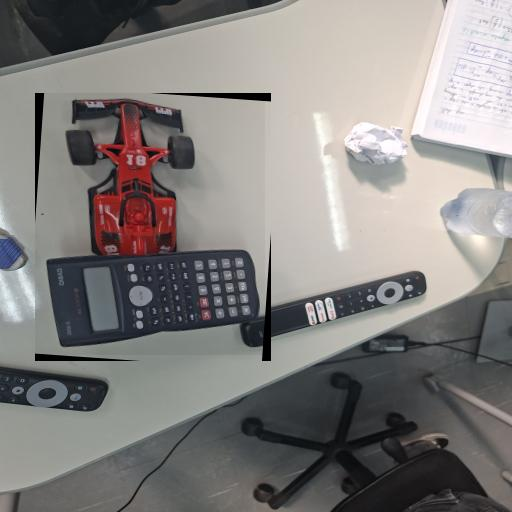carro: (35, 93, 265, 355)
